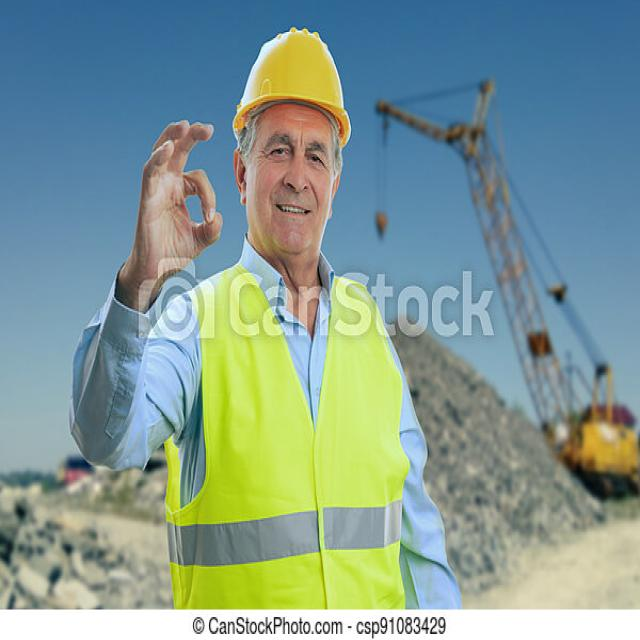helmet: (228, 31, 353, 130)
no-goggles: (233, 129, 345, 173)
vest: (165, 266, 411, 610)
